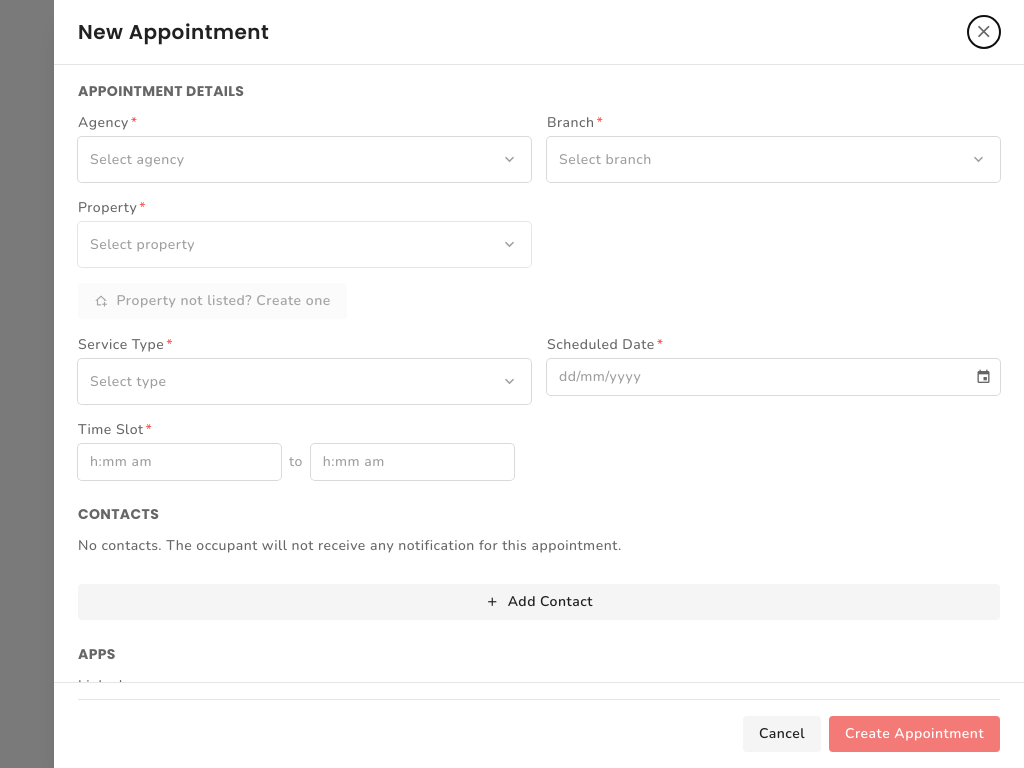
Test: AppointmentFormDrawer › shows a user-friendly error and keeps drawer open when save returns APPOINTMENT_CONTACT_NOT_FOUND
The width and height of the screenshot is (1024, 768).
Click the button "Create Appointment". click: [914, 734]
box: [829,716,1000,752]
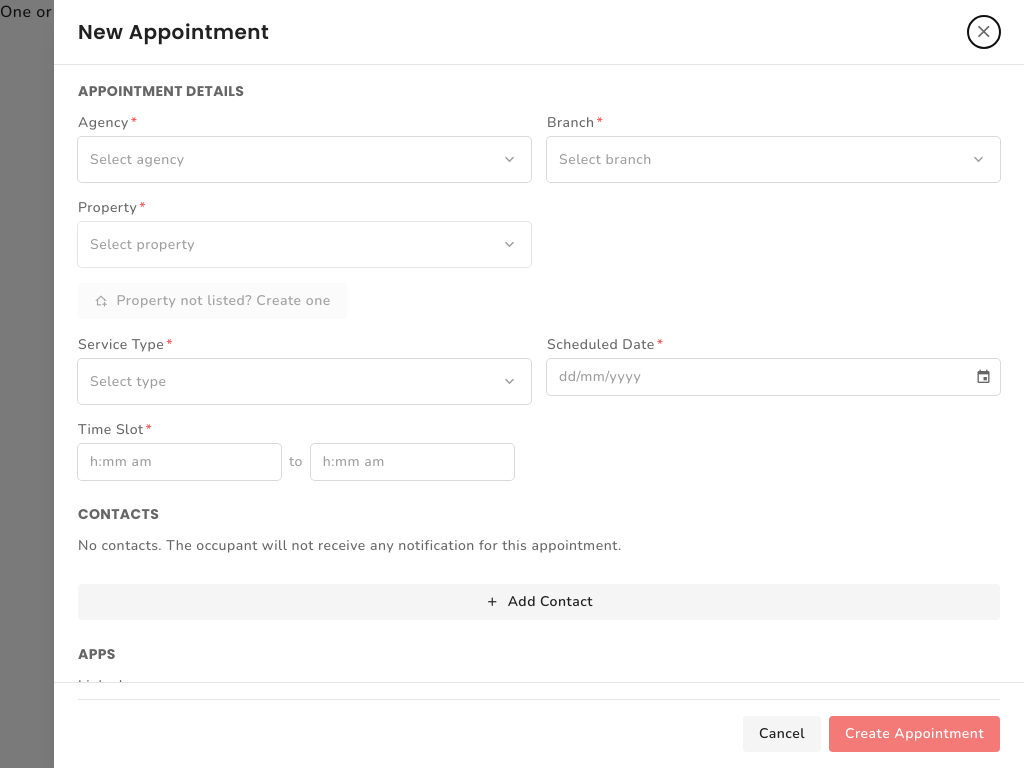
expect the text "One or more contacts belong to a different agency and cannot be linked to this appointment." is shown: met, box [0,1,712,23]
